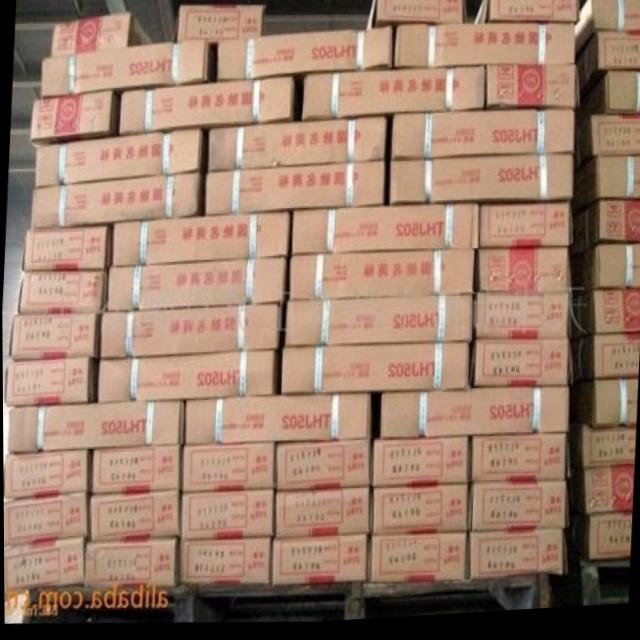box: (208, 120, 387, 175), (119, 80, 299, 134), (206, 164, 385, 218), (113, 215, 290, 269), (40, 44, 216, 98), (99, 306, 278, 359), (303, 71, 485, 123), (285, 300, 473, 350), (184, 397, 370, 447), (33, 133, 208, 186), (105, 261, 286, 312), (292, 209, 479, 258), (281, 348, 471, 396), (31, 175, 206, 227), (379, 395, 568, 443), (218, 31, 391, 83), (391, 116, 574, 165), (96, 355, 277, 404), (7, 403, 183, 453), (388, 162, 575, 209), (290, 256, 475, 302), (393, 28, 575, 72), (469, 344, 572, 395), (273, 441, 371, 494), (370, 488, 471, 539), (270, 537, 366, 589), (366, 538, 467, 587), (467, 489, 567, 538), (87, 491, 179, 544), (273, 491, 371, 540), (83, 539, 177, 590), (372, 444, 469, 493), (30, 93, 118, 147), (468, 536, 566, 584), (471, 441, 568, 489), (89, 445, 180, 496), (474, 298, 571, 345), (180, 494, 273, 543), (575, 39, 640, 108), (3, 539, 83, 595), (178, 540, 270, 588), (486, 71, 579, 118), (181, 446, 274, 493), (3, 448, 88, 499), (7, 314, 99, 361), (3, 494, 85, 546), (478, 210, 574, 254), (475, 254, 570, 298), (574, 0, 640, 63), (3, 361, 97, 405), (50, 16, 156, 55), (16, 271, 107, 315), (568, 208, 640, 263), (571, 163, 640, 220), (20, 228, 112, 270), (575, 120, 640, 178), (575, 77, 640, 133), (571, 251, 640, 302), (569, 386, 638, 437), (571, 297, 640, 347), (177, 7, 263, 46), (572, 342, 640, 391), (474, 0, 579, 31), (568, 474, 633, 523), (365, 0, 464, 31), (566, 520, 630, 567), (569, 432, 636, 475)
